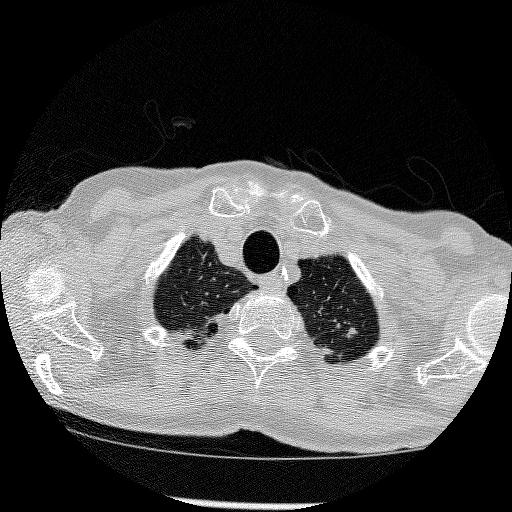nodule: (343, 325, 359, 341)
